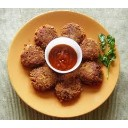cutlet: (21, 42, 48, 67), (56, 76, 81, 101), (30, 67, 55, 90), (80, 61, 102, 86), (32, 24, 58, 45), (62, 22, 86, 42), (82, 37, 101, 62)
